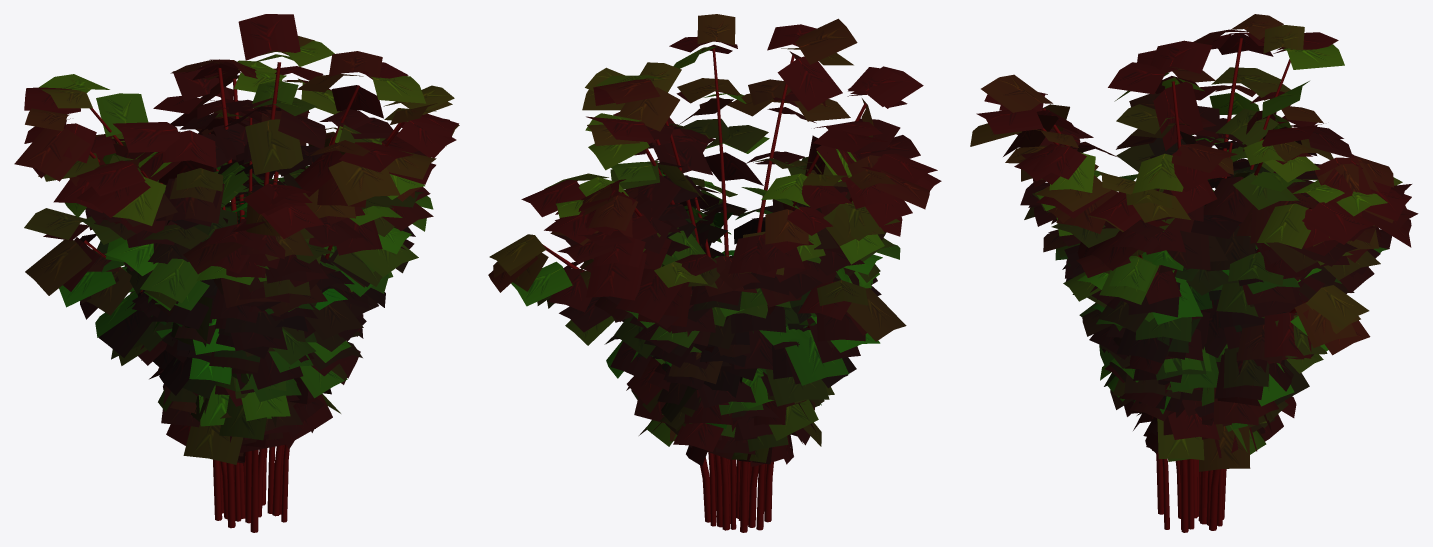
The model's file is veg_bamboo1.glb.
3 views of the same model, side by side, from view 1: azimuth 30°, elevation 25°; view 2: azimuth 150°, elevation 25°; view 3: azimuth 270°, elevation 25° (orthographic). The views are drawn at different scales.
Visible parts, largest first — view 1: bamboo_1; view 2: bamboo_1; view 3: bamboo_1.
Boxes of the visible parts, x1,y1,x2,y2 form: bamboo_1: [14, 14, 459, 532]; bamboo_1: [488, 14, 941, 532]; bamboo_1: [970, 14, 1418, 532].
Bounding box in the file's own units: 9.73 × 10.18 × 9.48.
Materials: 2 (1 with a texture image).
